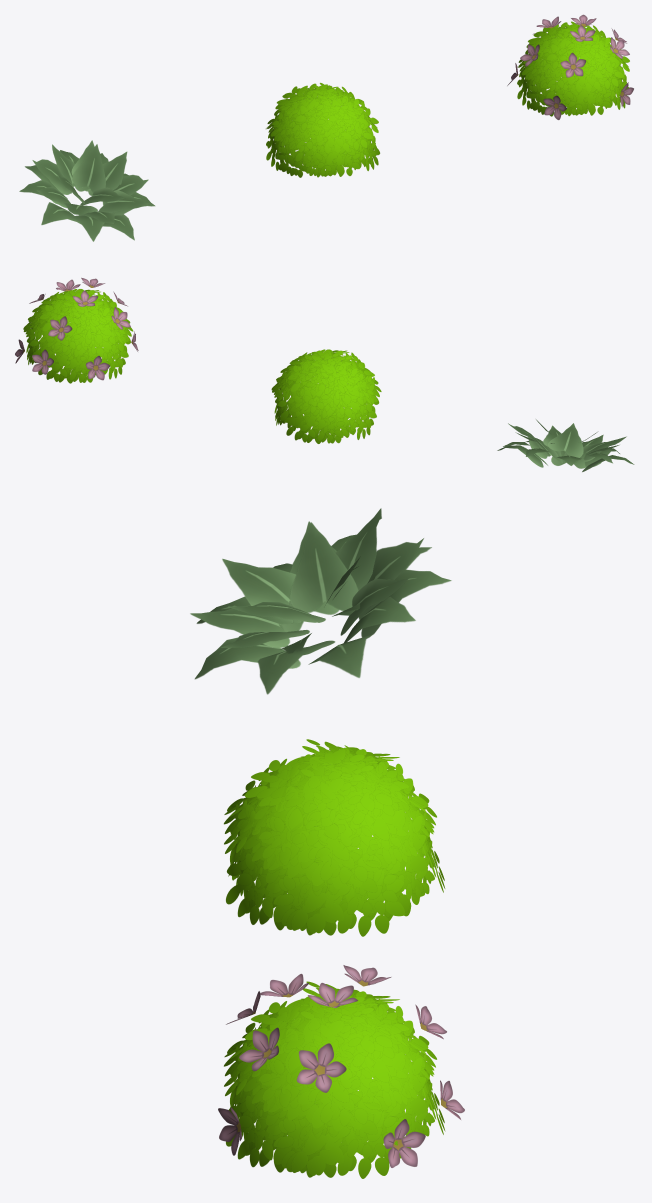
The model's file is Bushes.glb.
3 views of the same model, one above another, from view 1: azimuth 30°, elevation 25°; view 2: azimuth 150°, elevation 25°; view 3: azimuth 270°, elevation 25° (orthographic). The views are drawn at different scales.
Parts seen in each view (by area): view 1: Bush_Flowers, Bush, Plant_1; view 2: Bush_Flowers, Bush, Plant_1; view 3: Bush_Flowers, Bush, Plant_1.
Part boxes in pixels (x1,y1,x2,y2): Bush_Flowers: (507, 14, 633, 119); Bush: (266, 82, 380, 177); Plant_1: (19, 140, 154, 241); Bush_Flowers: (15, 277, 138, 383); Bush: (271, 349, 381, 443); Plant_1: (497, 419, 634, 471); Bush_Flowers: (218, 965, 464, 1178); Bush: (224, 739, 445, 936); Plant_1: (190, 508, 451, 694).
Size of the model in its own units: 6.03 by 0.7975 by 1.23.
Materials: 2 (2 with a texture image).
